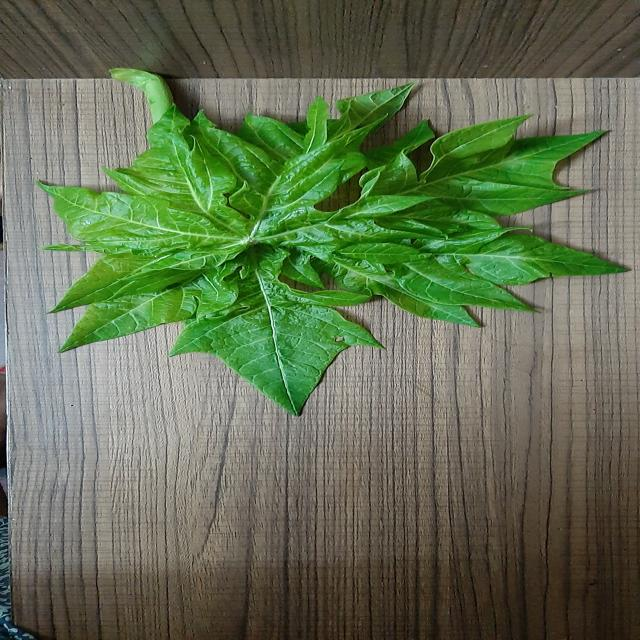papaya: (38, 69, 623, 414)
